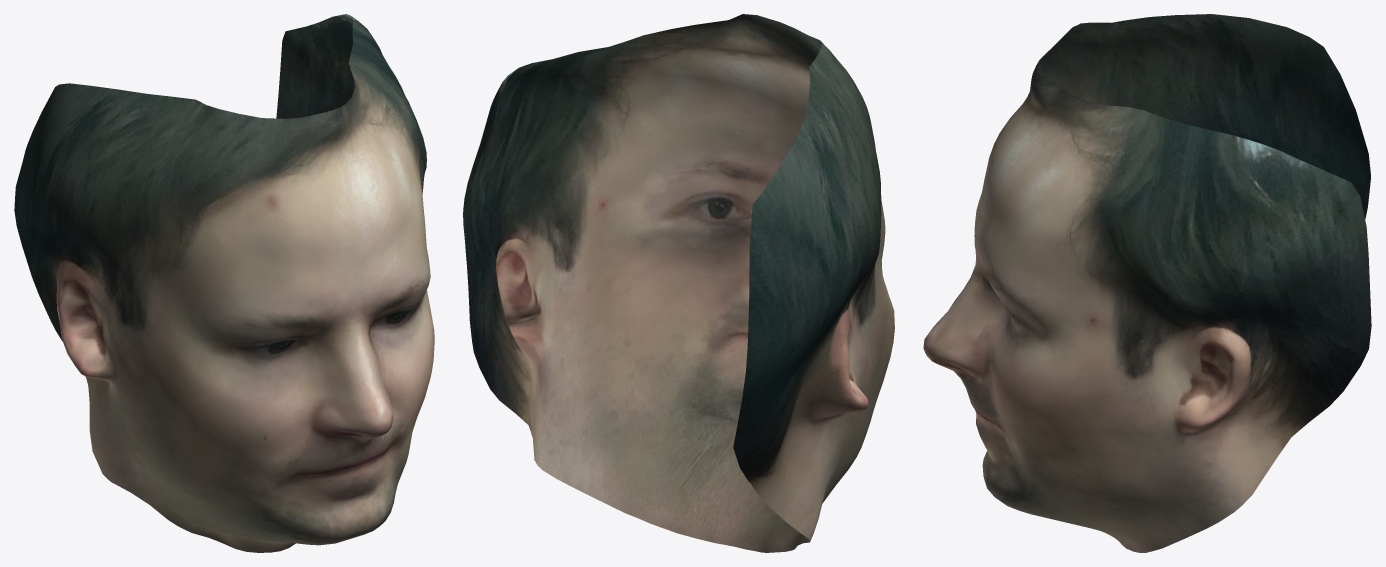
The model's file is headScanLow.glb.
The picture shows the model from 3 angles, left to right: view 1: azimuth 30°, elevation 25°; view 2: azimuth 150°, elevation 25°; view 3: azimuth 270°, elevation 25°; orthographic projection. The views are drawn at different scales.
Parts seen in each view (by area): view 1: Node; view 2: Node; view 3: Node.
Part boxes in pixels (box(x1,y1,x2,y2)): Node: box(14, 14, 434, 552); Node: box(463, 14, 894, 552); Node: box(923, 14, 1371, 552).
Bounding box in the file's own units: 193 × 253 × 213.
1 material, 1 textured.
